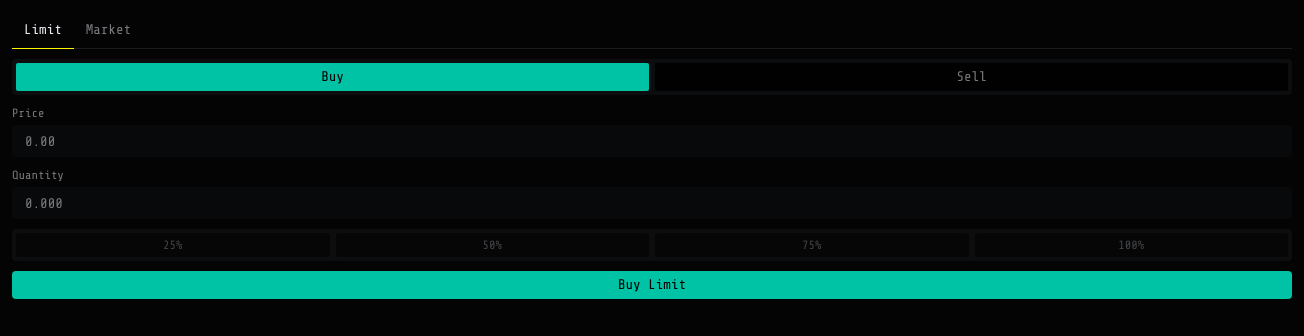
Scenario: OrderForm › shows limit price error when quantity is set but price is missing
In the number field labelled "Quantity": (652, 203) [12,187,1292,219], type "0.5"
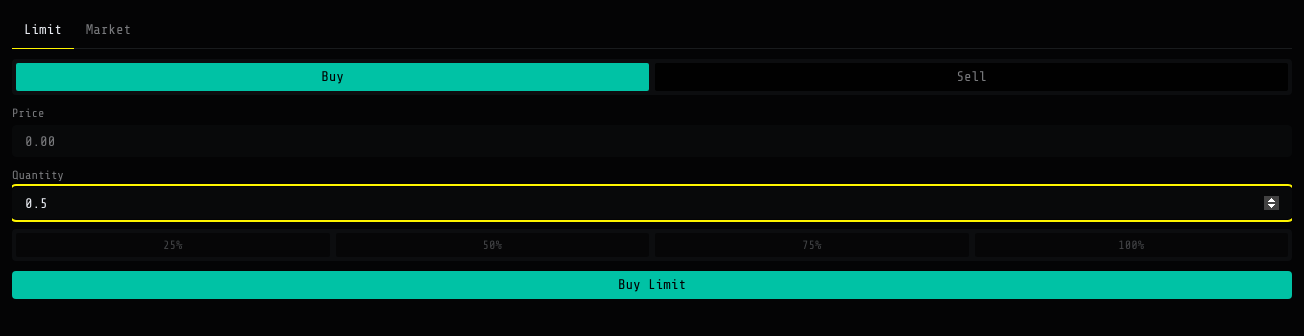
Click the button "Buy Limit": (652, 285) [12,271,1292,299]
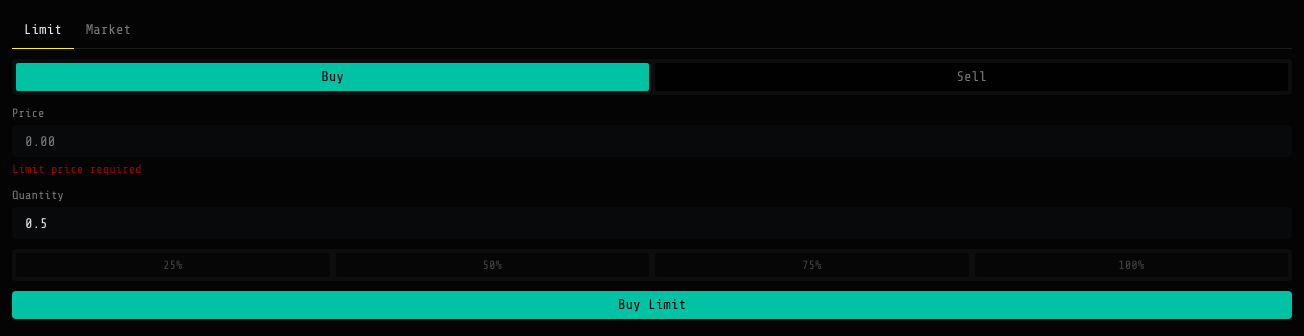
Now the text "Limit price required" is shown, box [12,162,142,176]
